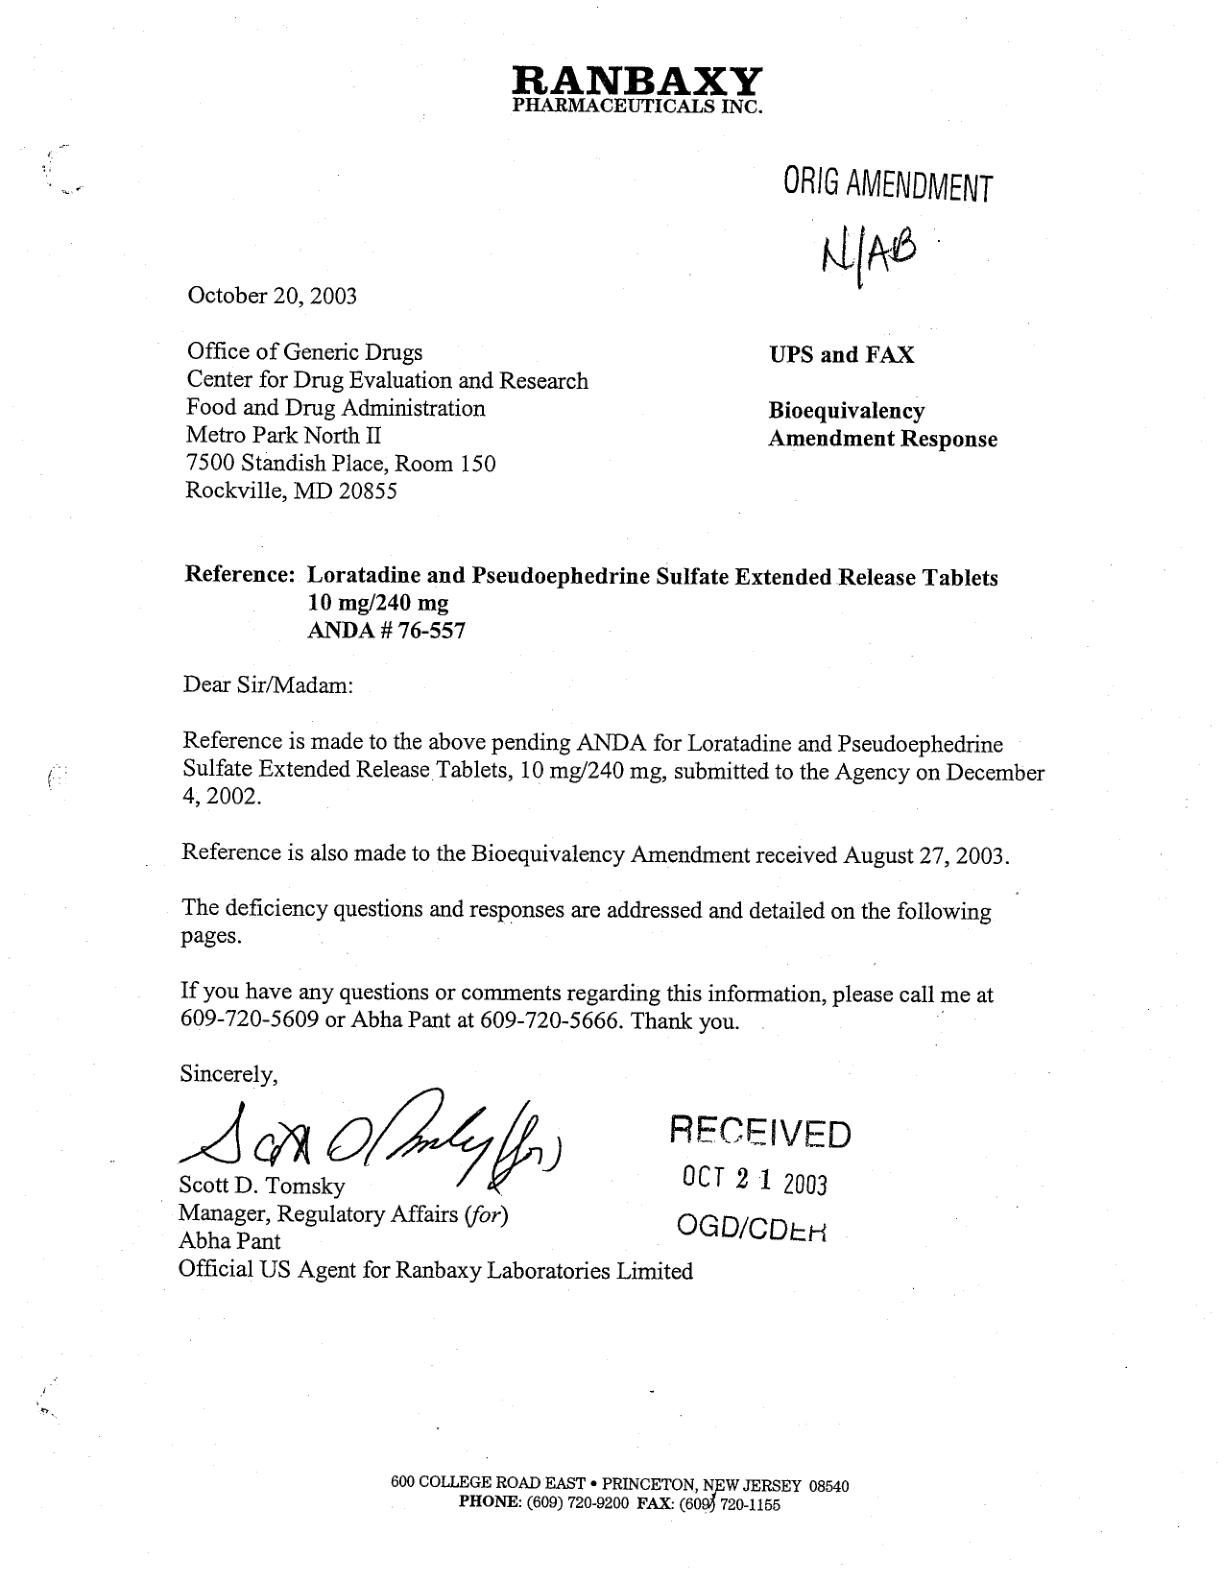nolines: (185, 336, 1001, 505)
